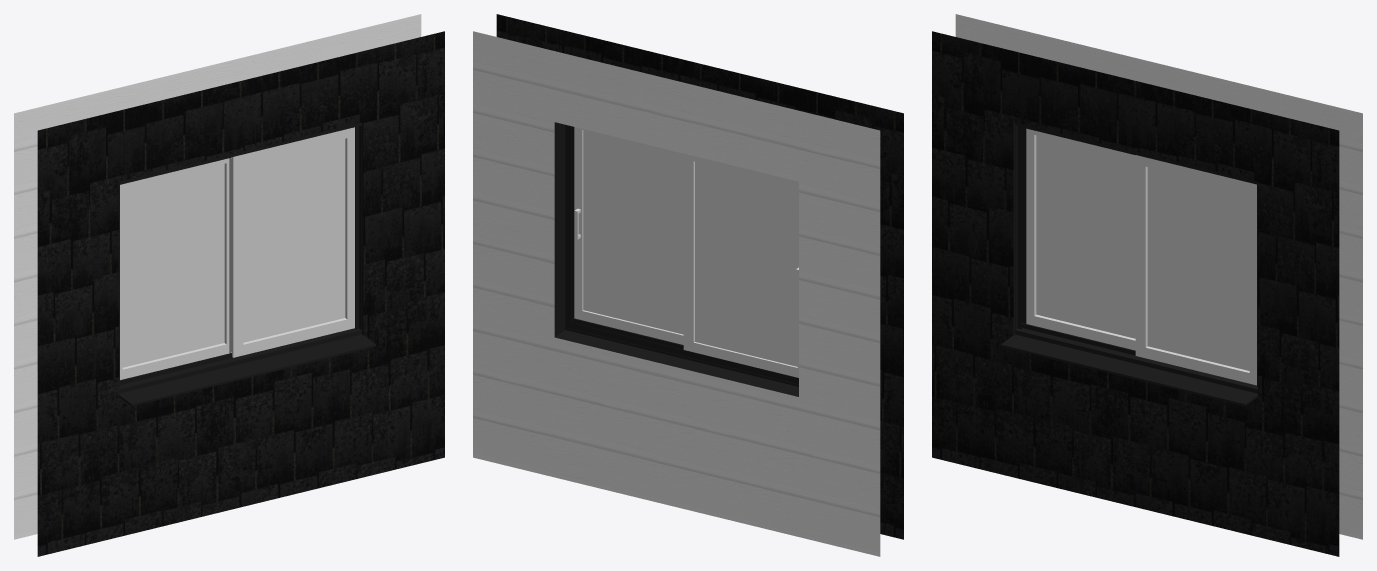
The model's file is Window_Wall.fbx.
3 renders of one model, left to right at view 1: azimuth 30°, elevation 25°; view 2: azimuth 150°, elevation 25°; view 3: azimuth 330°, elevation 25°, orthographic.
Visible parts, largest first — view 1: Window_Wall.005, Window_L.005, Window_R.005; view 2: Window_Wall.005, Window_R.005, Window_L.005; view 3: Window_Wall.005, Window_L.005, Window_R.005.
Boxes of the visible parts, x1,y1,x2,y2 form: Window_Wall.005: [14, 14, 444, 556]; Window_L.005: [229, 127, 354, 357]; Window_R.005: [120, 158, 229, 379]; Window_Wall.005: [473, 14, 903, 556]; Window_R.005: [683, 153, 798, 377]; Window_L.005: [574, 127, 683, 344]; Window_Wall.005: [932, 14, 1362, 556]; Window_L.005: [1135, 155, 1256, 385]; Window_R.005: [1026, 128, 1135, 350].
Bounding box in the file's own units: 300 × 300 × 46.12.
